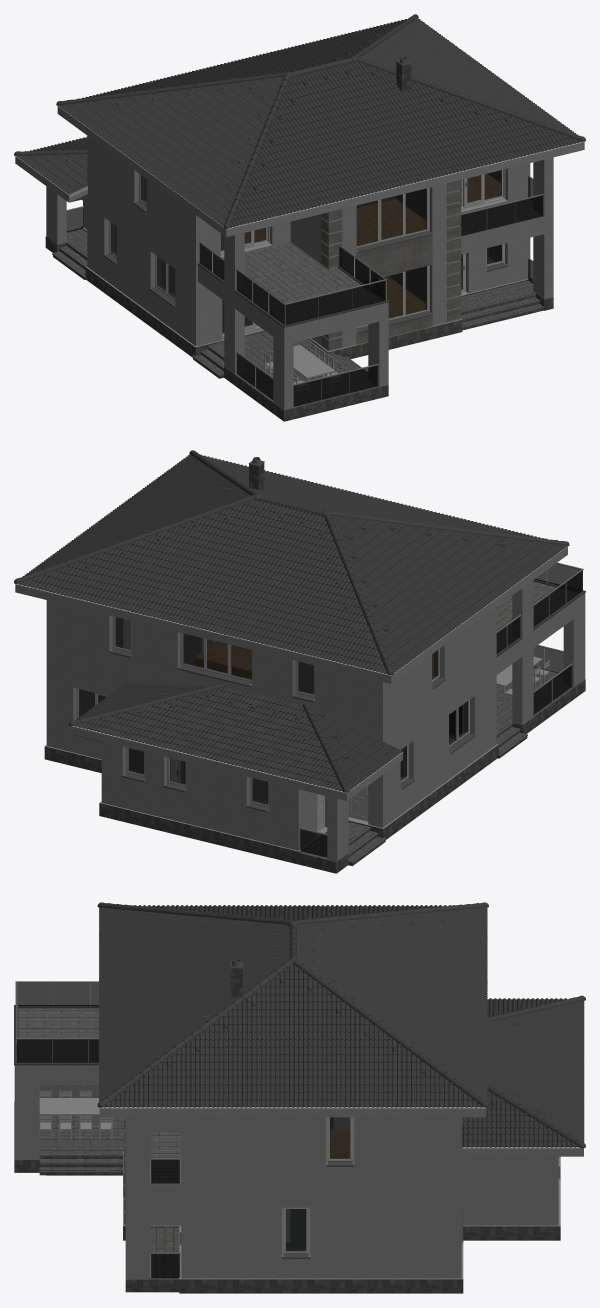
3 renders of one model, top to bottom at view 1: azimuth 30°, elevation 25°; view 2: azimuth 150°, elevation 25°; view 3: azimuth 270°, elevation 25°, orthographic. The views are drawn at different scales.
Visible parts, largest first — view 1: Material26, Material2, Material28, Material22, Material10, Material19, Material7, Material11, Material3, Material9, Material27, Material18 (+3 smaller); view 2: Material26, Material2, Material28, Material11, Material19, Material3, Material10, Material27, Material22, Material18, Material13, Material9; view 3: Material26, Material2, Material19, Material28, Material22, Material10, Material11, Material3, Material13, Material27, Material21, Material62 (+2 smaller).
Part boxes in pixels (x1,y1,x2,y2): Material26: (14,14,585,228); Material2: (46,136,553,410); Material28: (66,170,543,406); Material22: (203,197,543,323); Material10: (46,228,544,410); Material19: (45,62,553,421); Material7: (321,180,461,350); Material11: (15,106,584,237); Material3: (82,170,531,396); Material9: (221,174,500,317); Material27: (109,169,505,337); Material18: (103,200,508,333); Material26: (14,450,569,792); Material2: (46,580,585,861); Material28: (79,564,582,857); Material11: (15,547,567,800); Material19: (44,463,585,873); Material3: (45,617,549,851); Material10: (300,667,584,863); Material27: (76,616,469,831); Material22: (496,582,577,651); Material18: (73,648,475,812); Material13: (16,546,567,793); Material9: (195,642,433,678); Material26: (97,902,585,1148); Material2: (14,1065,558,1279); Material19: (14,968,560,1293); Material28: (16,983,350,1278); Material22: (18,1008,181,1184); Material10: (14,1101,179,1279); Material11: (99,1108,583,1156); Material3: (39,1090,560,1279); Material13: (100,1107,580,1148); Material27: (282,1117,354,1254); Material21: (14,1005,99,1065); Material62: (15,981,180,1254).
Bounding box in the file's own units: 15.3 × 9.7 × 18.27.
26 materials, 9 textured.
